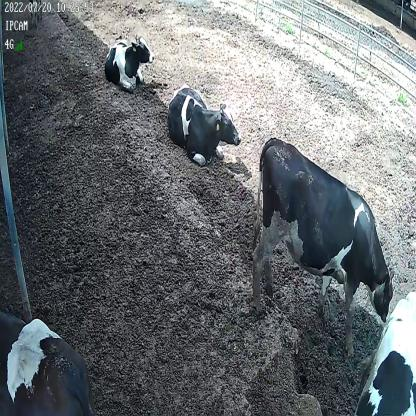cow: (250, 136, 396, 347), (166, 79, 242, 168), (102, 35, 156, 94)
